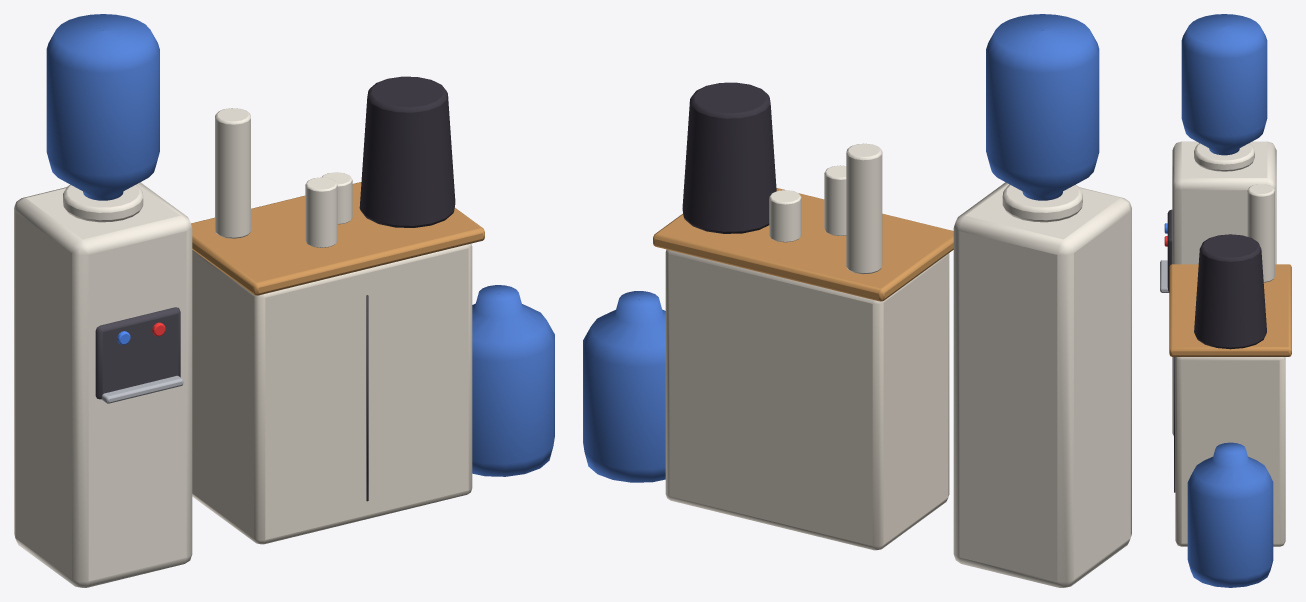
File: water_cooler.glb
3 views of the same model, side by side, from view 1: azimuth 30°, elevation 25°; view 2: azimuth 150°, elevation 25°; view 3: azimuth 270°, elevation 25° (orthographic). The views are drawn at different scales.
Parts seen in each view (by area): view 1: water_cooler; view 2: water_cooler; view 3: water_cooler.
Boxes of the visible parts, left/top/right/bottom form: water_cooler: left=14, top=14, right=554, bottom=587; water_cooler: left=583, top=14, right=1131, bottom=587; water_cooler: left=1160, top=14, right=1291, bottom=587.
Size of the model in its own units: 1.45 by 1.43 by 0.43.
